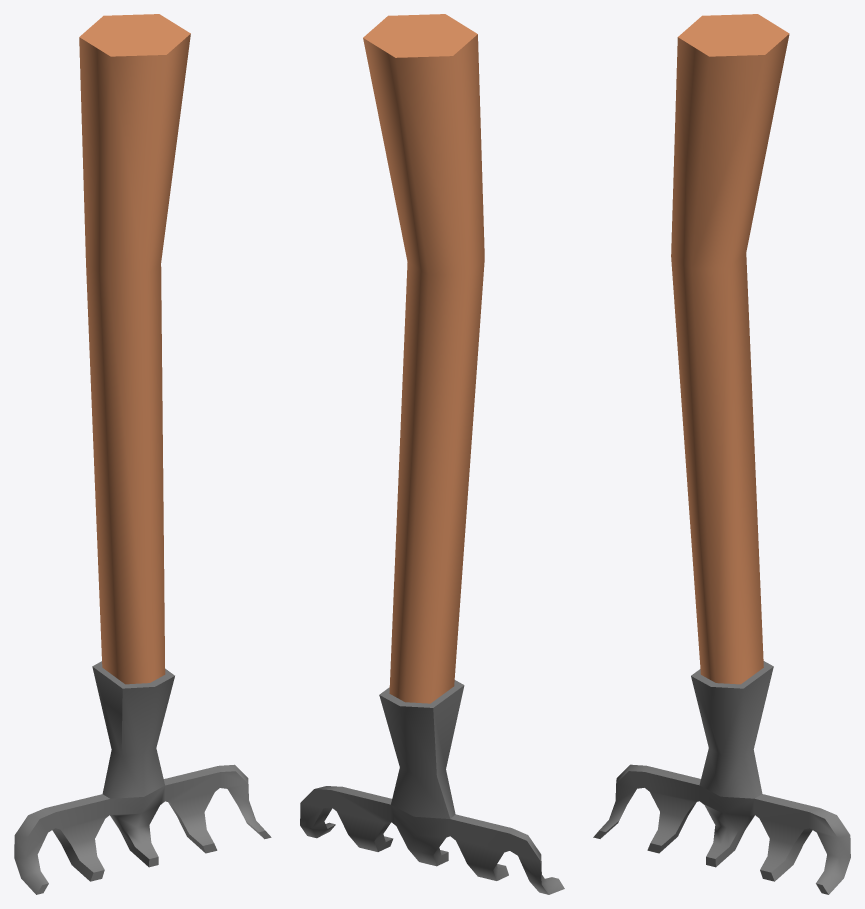
The model's file is rake.fbx.
3 views of the same model, side by side, from view 1: azimuth 30°, elevation 25°; view 2: azimuth 150°, elevation 25°; view 3: azimuth 330°, elevation 25° (orthographic). The views are drawn at different scales.
Visible parts, largest first — view 1: rake; view 2: rake; view 3: rake.
Part boxes in pixels (bbox=[...]): rake: bbox=[14, 14, 271, 894]; rake: bbox=[300, 14, 564, 894]; rake: bbox=[593, 14, 850, 894].
Bounding box in the file's own units: 37.55 × 124 × 15.43.
